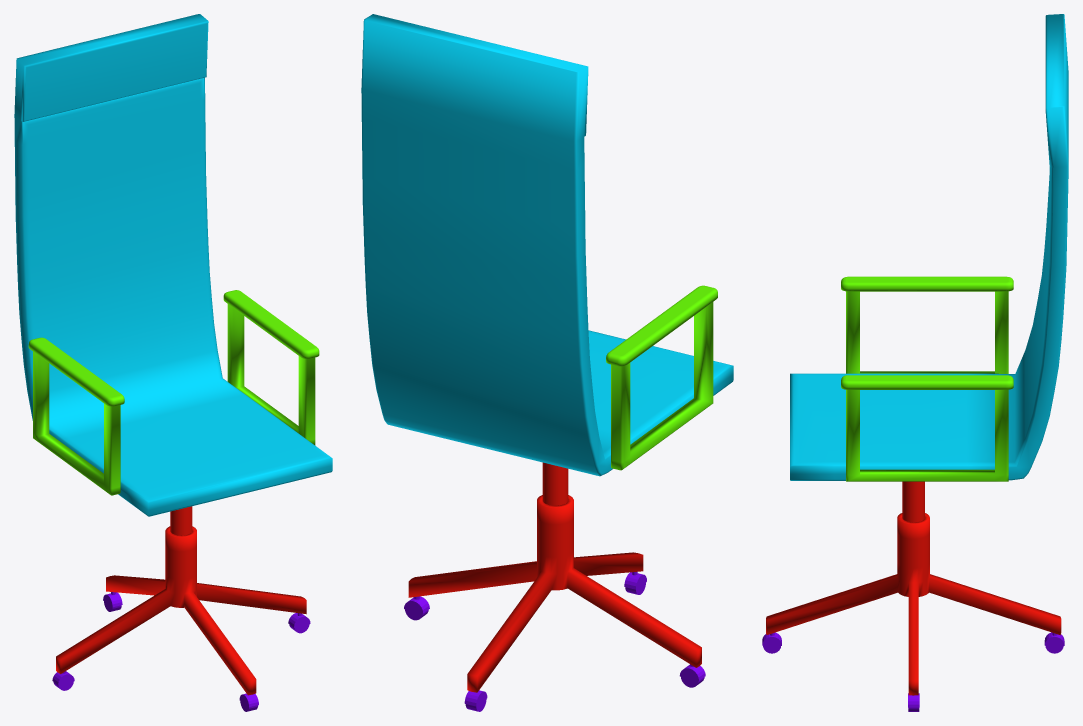
File: Chair.FBX
3 views of the same model, side by side, from view 1: azimuth 30°, elevation 25°; view 2: azimuth 150°, elevation 25°; view 3: azimuth 270°, elevation 25° (orthographic). The views are drawn at different scales.
Parts seen in each view (by area): view 1: Chair; view 2: Chair; view 3: Chair.
Boxes of the visible parts, x1,y1,x2,y2 form: Chair: (14,14,332,711); Chair: (361,14,733,711); Chair: (762,14,1068,711).
Bounding box in the file's own units: 31.68 × 68.46 × 32.2.
